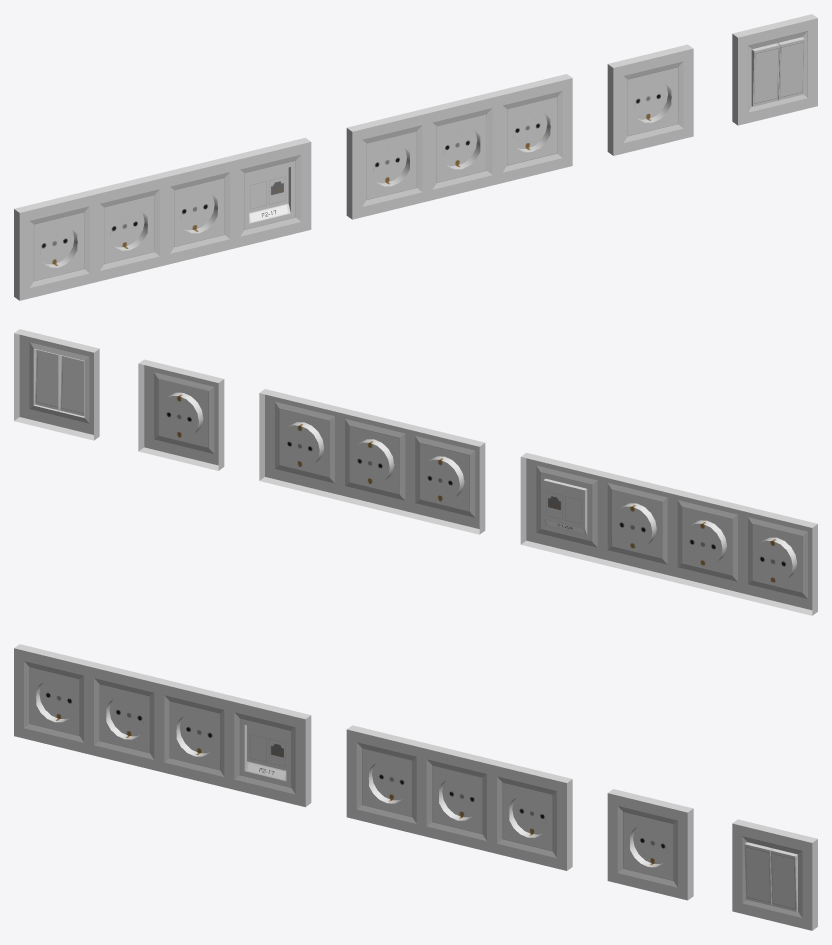
File: outlets.fbx
3 renders of one model, top to bottom at view 1: azimuth 30°, elevation 25°; view 2: azimuth 150°, elevation 25°; view 3: azimuth 330°, elevation 25°, orthographic.
Visible parts, largest first — view 1: ElecOutlet_3+1, ElecOutlet_3, ElecOutlet_1, LightSwitch; view 2: ElecOutlet_3+1, ElecOutlet_3, ElecOutlet_1, LightSwitch; view 3: ElecOutlet_3+1, ElecOutlet_3, ElecOutlet_1, LightSwitch.
Boxes of the visible parts, box(x1,y1,x2,y2) form: ElecOutlet_3+1: box(14, 137, 311, 300); ElecOutlet_3: box(346, 74, 572, 219); ElecOutlet_1: box(607, 44, 693, 155); LightSwitch: box(732, 14, 817, 125); ElecOutlet_3+1: box(520, 452, 817, 615); ElecOutlet_3: box(259, 389, 485, 534); ElecOutlet_1: box(138, 359, 224, 470); LightSwitch: box(14, 329, 99, 440); ElecOutlet_3+1: box(14, 644, 311, 807); ElecOutlet_3: box(346, 725, 572, 870); ElecOutlet_1: box(607, 789, 693, 900); LightSwitch: box(732, 819, 817, 930).
Bounding box in the file's own units: 2.03 × 0.2134 × 0.0344.
Materials: 1 (1 with a texture image).
